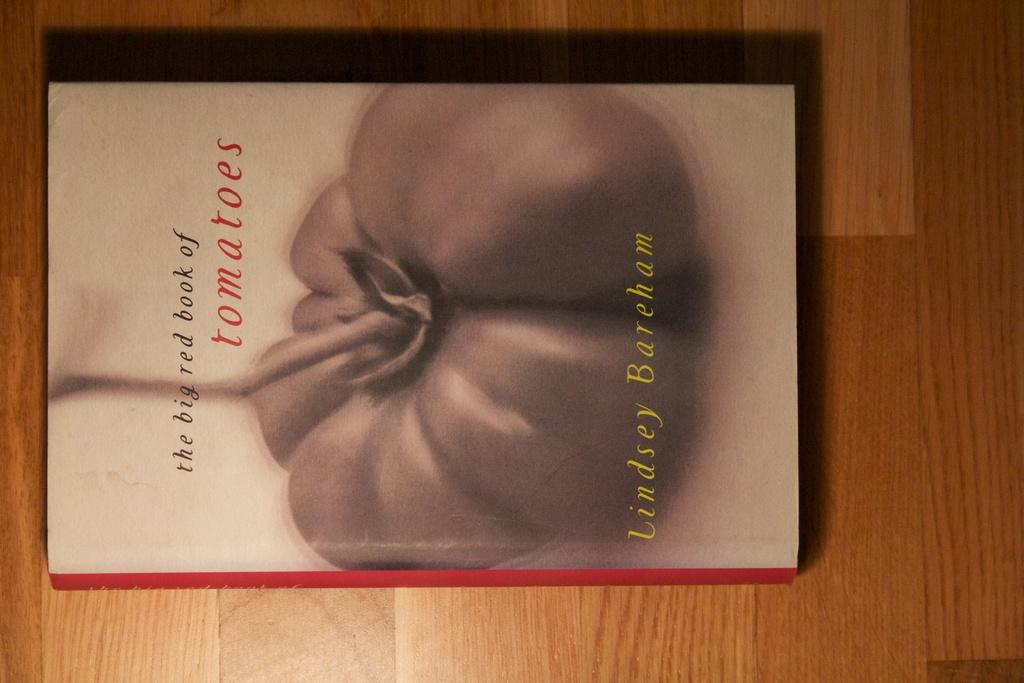book: (46, 78, 798, 588)
